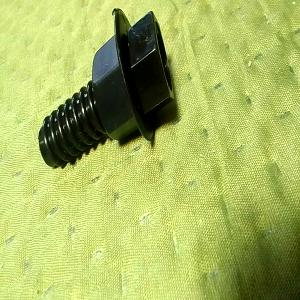parafuso: (37, 7, 175, 169)
